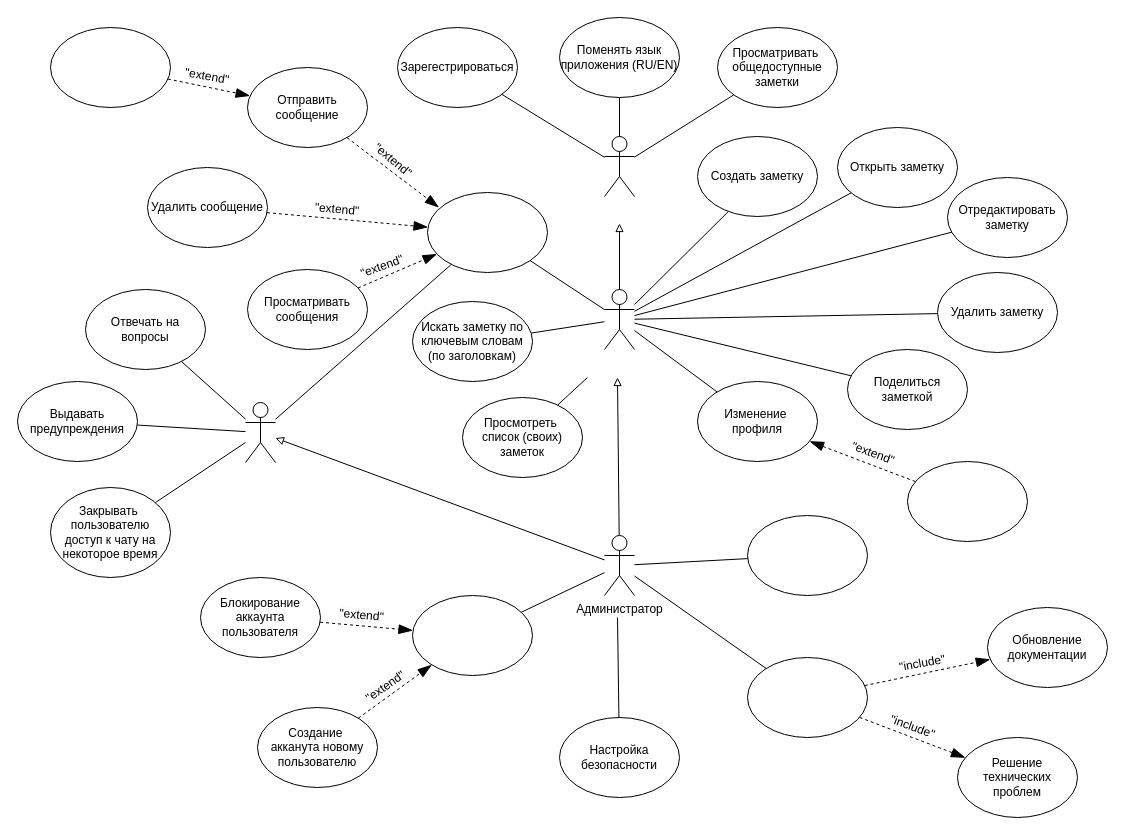
This 1125x835 diagram has some shape labels left out. The box of each missing label's shape, as (x1, y1, x2, y2) in pixels:
Гость: (604, 136, 634, 196)
Изменение аватарки: (906, 460, 1028, 542)
Модератор: (244, 402, 276, 462)
Поддержка пользователей: (746, 656, 868, 738)
Пользователь: (604, 288, 634, 350)
Пользоваться чатом: (426, 192, 548, 272)
Прикрепить файл к сообщению: (50, 26, 170, 108)
Управление данными, хранящимися на сервере: (746, 514, 868, 596)
Управление учётными записями: (412, 594, 532, 676)
